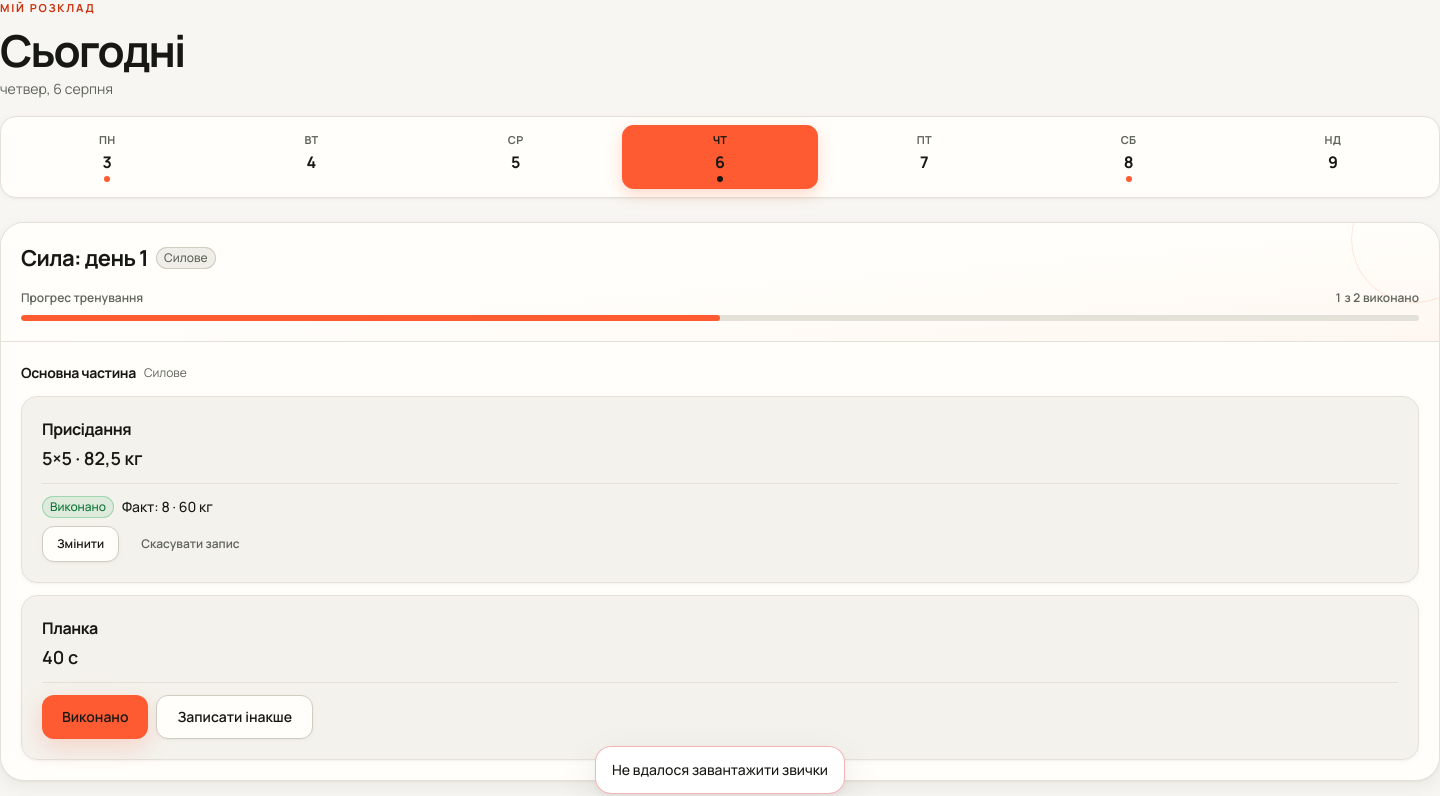
Scenario: workout logging › reopens an existing record with the logged values, not the prescription
Expected: the heading "Присідання" is shown, [42,418,131,440]
Expected: the text "Факт: 8 · 60 кг" is shown, [122,496,213,518]
Click the button "Змінити".
click(81, 544)  # box [42,526,119,562]
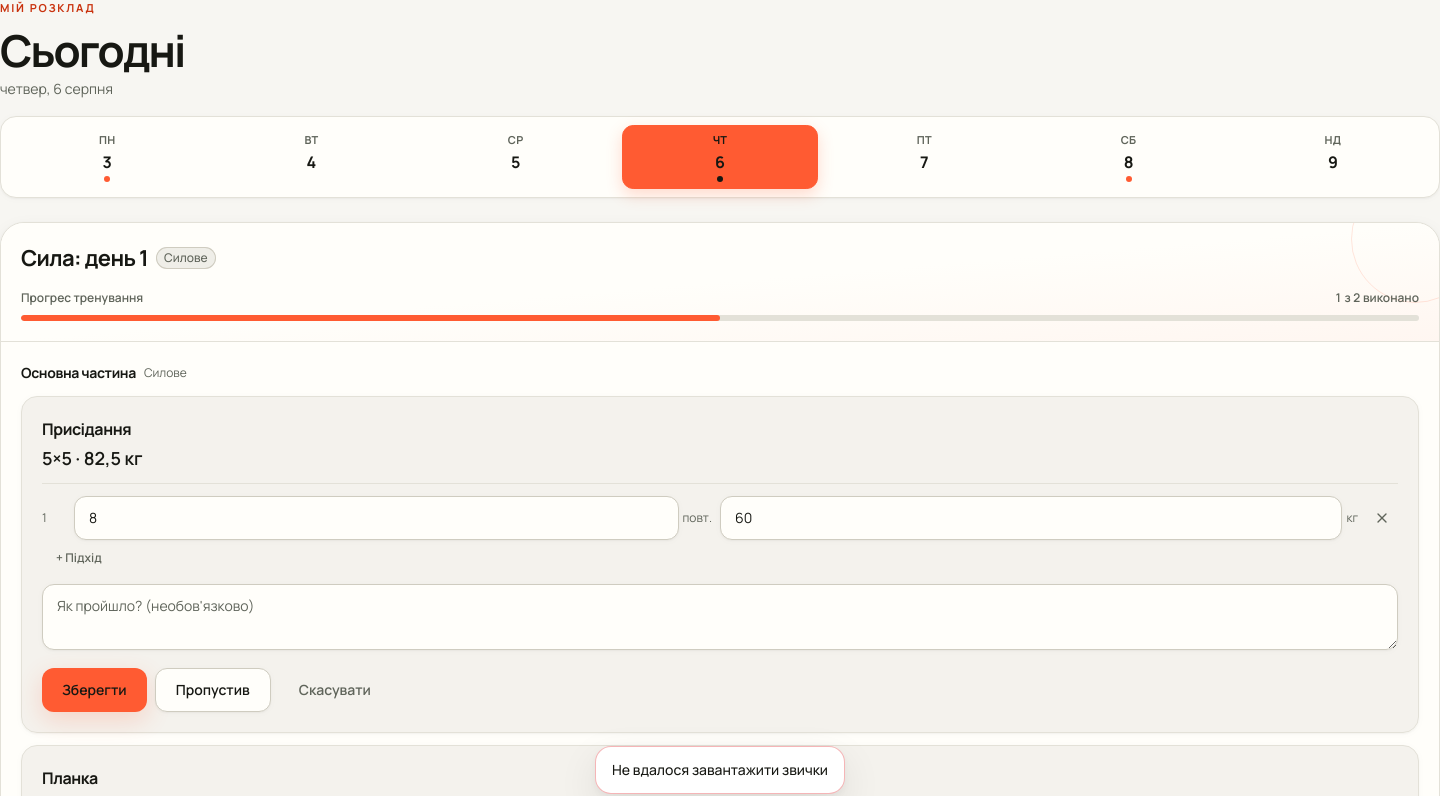
Result: the field named "Підхід 1, повторення" holds "8" at [74,496,678,540]
